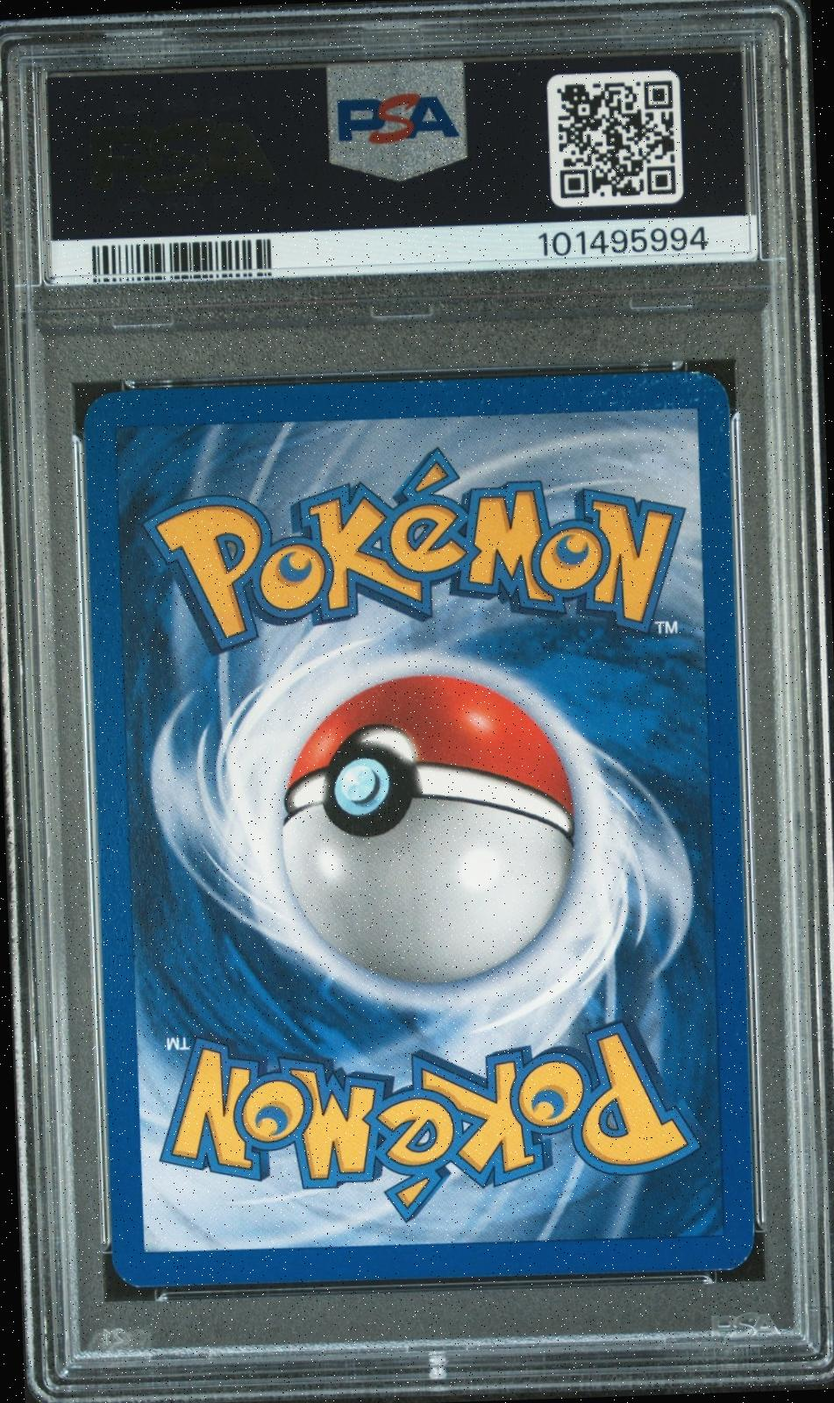card-2UtV: (82, 370, 755, 1289)
